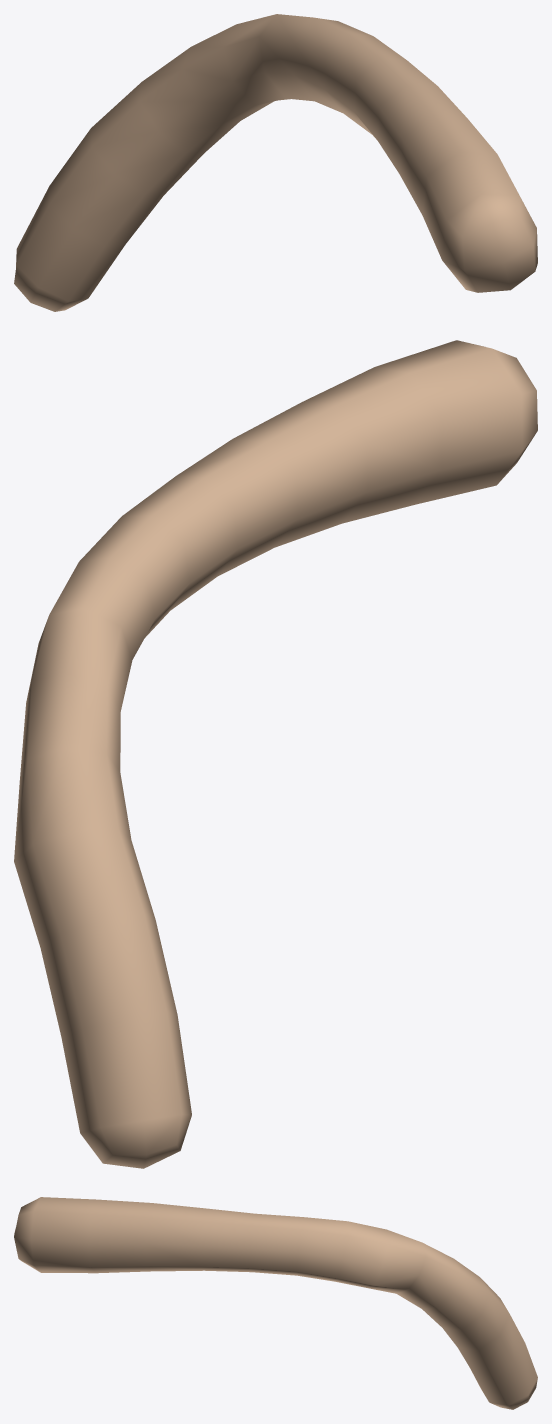
The picture shows the model from 3 angles, top to bottom: view 1: azimuth 30°, elevation 25°; view 2: azimuth 150°, elevation 25°; view 3: azimuth 270°, elevation 25°; orthographic projection. The views are drawn at different scales.
Visible parts, largest first — view 1: 右侧趾长屈肌腱鞘; view 2: 右侧趾长屈肌腱鞘; view 3: 右侧趾长屈肌腱鞘.
Boxes of the visible parts, left/top/right/bottom form: 右侧趾长屈肌腱鞘: left=14, top=14, right=537, bottom=311; 右侧趾长屈肌腱鞘: left=14, top=340, right=537, bottom=1168; 右侧趾长屈肌腱鞘: left=14, top=1197, right=537, bottom=1409.
Bounding box in the file's own units: 0.031 × 0.0495 × 0.098.
